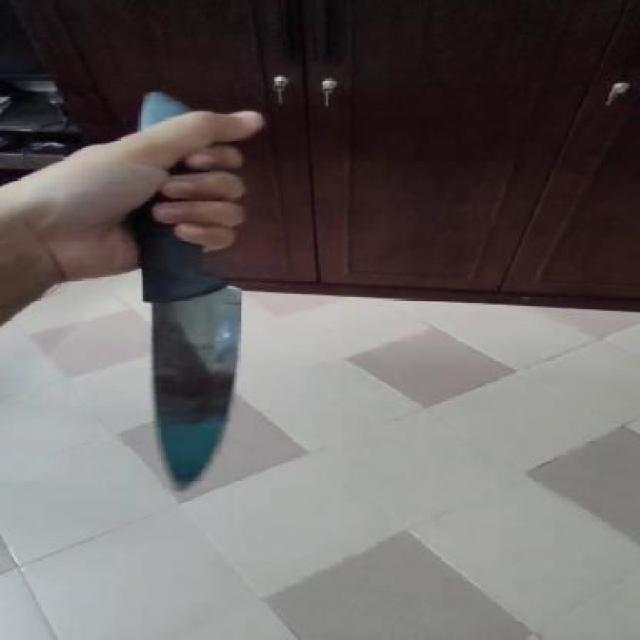knife: (120, 266, 274, 494)
